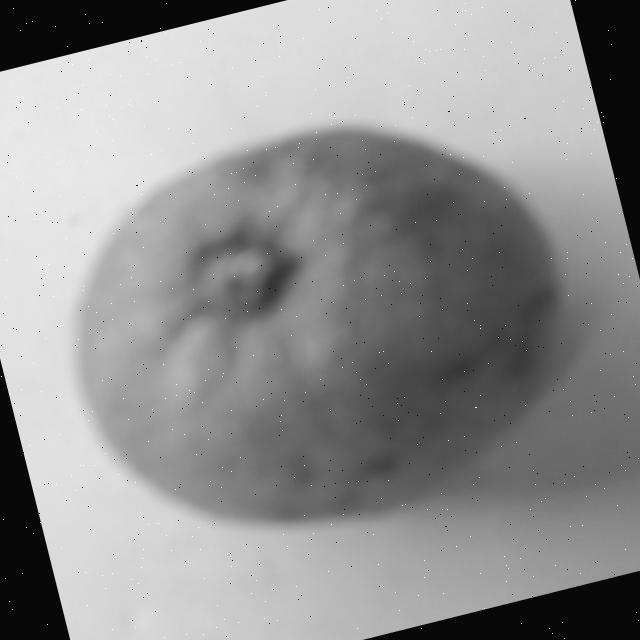overripe: (19, 70, 610, 588)
